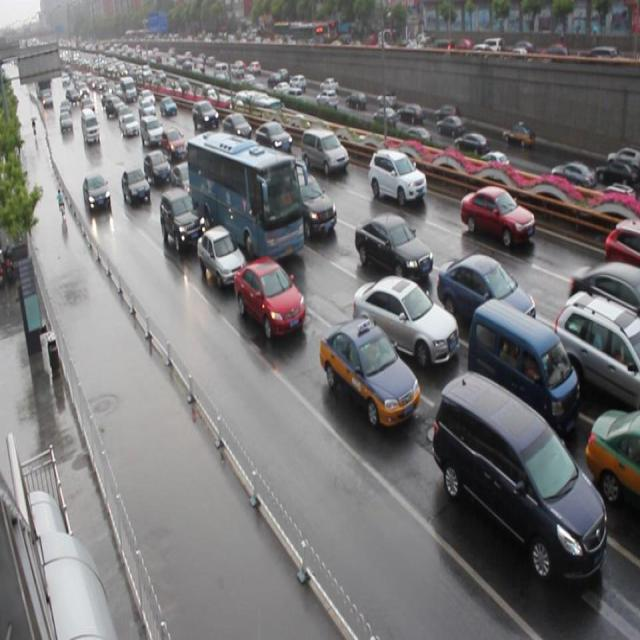car: (317, 318, 419, 427), (552, 291, 640, 411), (351, 276, 456, 372), (434, 253, 532, 337), (582, 411, 640, 518), (231, 256, 304, 338), (354, 212, 432, 281), (568, 260, 640, 333), (458, 184, 534, 248), (367, 149, 427, 204), (196, 224, 246, 288), (158, 188, 203, 252), (292, 172, 337, 236), (603, 216, 640, 284), (255, 119, 292, 158), (84, 172, 112, 213), (121, 166, 151, 204), (144, 149, 172, 184), (223, 111, 252, 142), (170, 162, 193, 200)
truck: (430, 374, 604, 584), (464, 298, 576, 429), (301, 126, 348, 176)
van: (186, 132, 302, 264)
